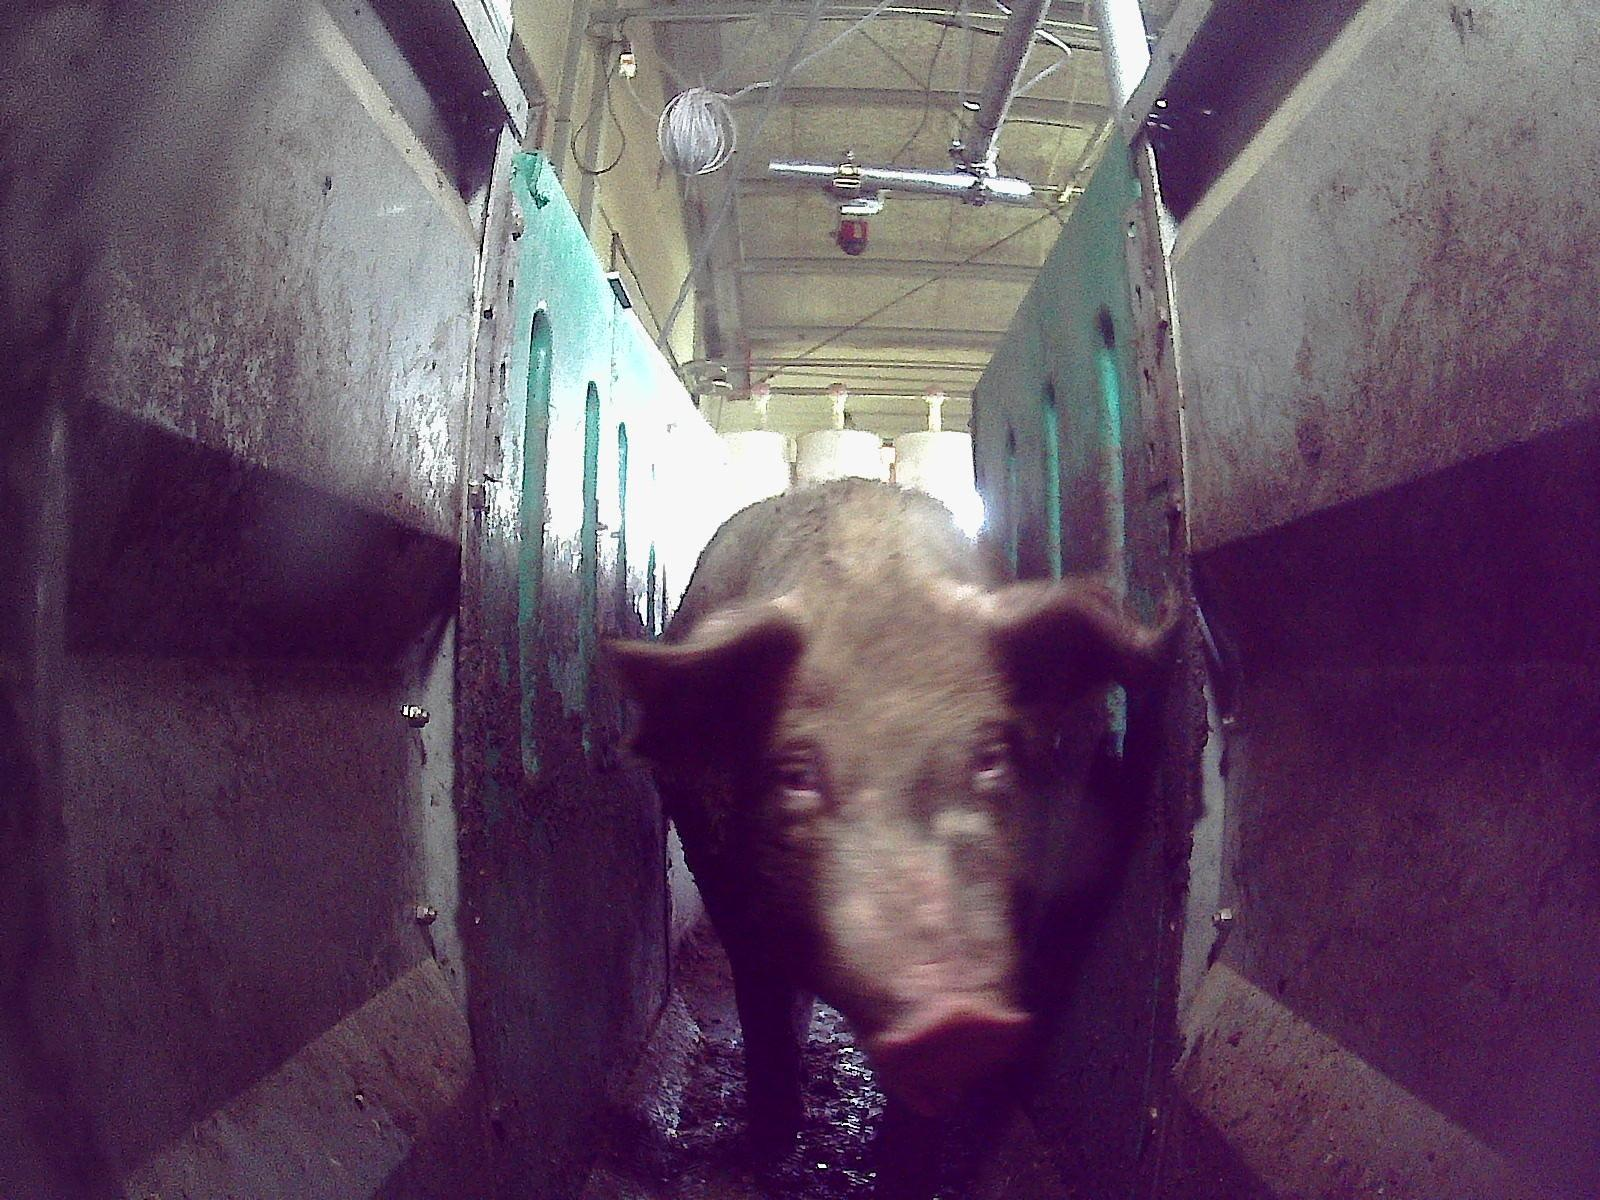Face: (741, 577, 1042, 1118)
